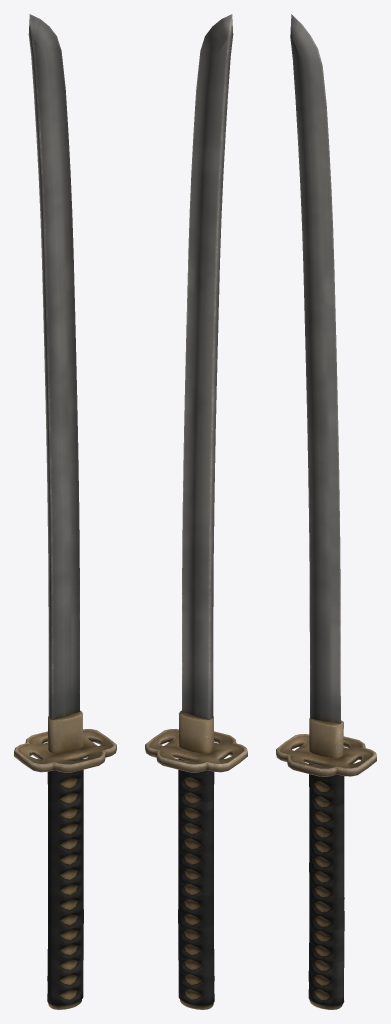
The model's file is SM_Katana.fbx.
The picture shows the model from 3 angles, left to right: view 1: azimuth 30°, elevation 25°; view 2: azimuth 150°, elevation 25°; view 3: azimuth 330°, elevation 25°; orthographic projection.
Visible parts, largest first — view 1: SM_Katana; view 2: SM_Katana; view 3: SM_Katana.
Part boxes in pixels (x1,y1,x2,y2): SM_Katana: (14, 14, 116, 1009); SM_Katana: (145, 14, 247, 1009); SM_Katana: (276, 14, 376, 1009).
Bounding box in the file's own units: 10.68 × 120 × 9.03.
